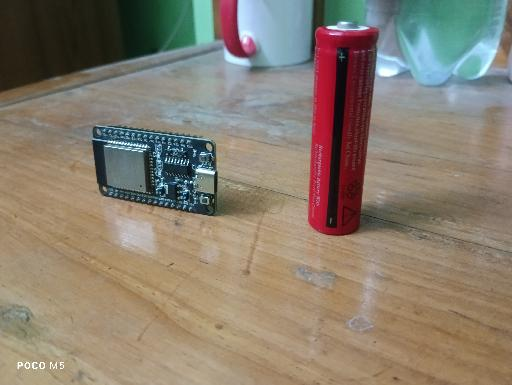Battery: (308, 20, 380, 236)
Esp32: (91, 123, 219, 217)
